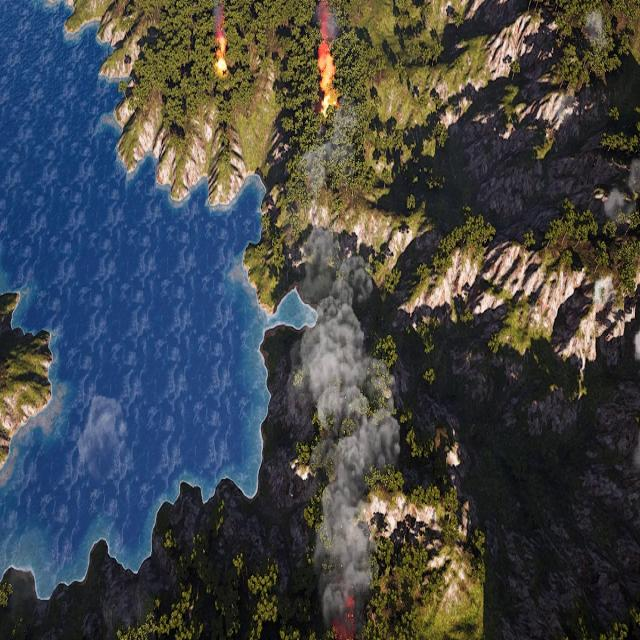fire: (316, 44, 336, 106), (213, 42, 231, 79)
smoke: (293, 109, 399, 638), (317, 0, 339, 39), (212, 0, 227, 36)
